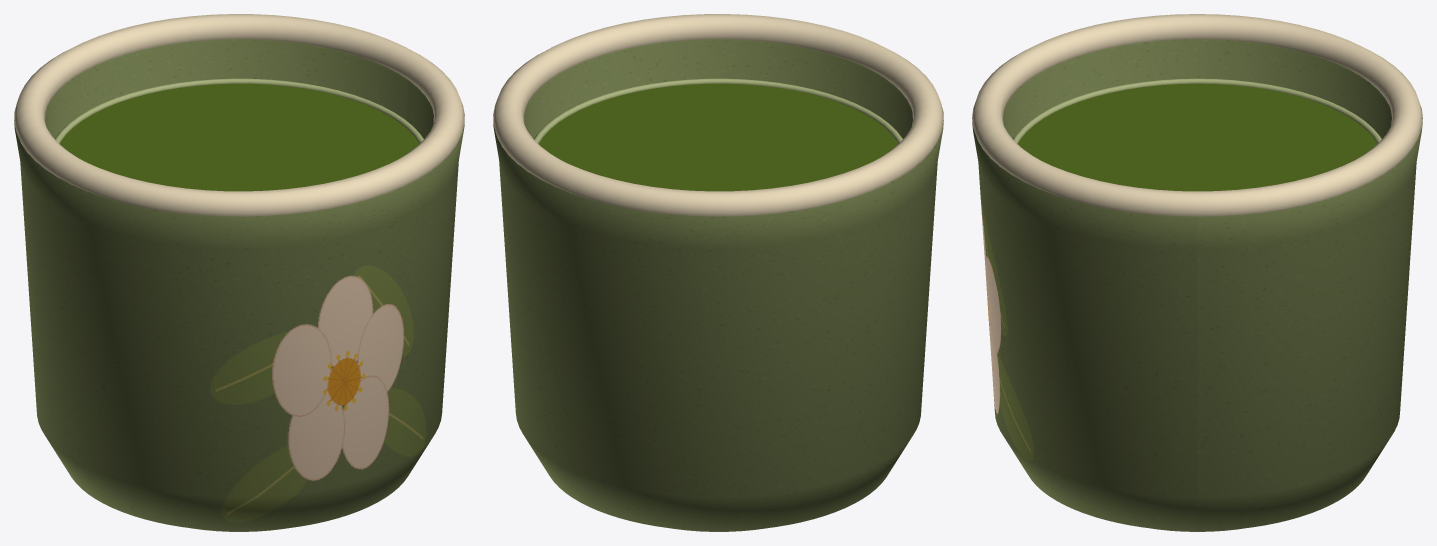
Rendered from tea-cup.glb.
3 renders of one model, left to right at view 1: azimuth 30°, elevation 25°; view 2: azimuth 150°, elevation 25°; view 3: azimuth 270°, elevation 25°, orthographic.
Visible parts, largest first — view 1: Tea cup painted exterior, Green tea surface, Tea cup cream lip, Tea meniscus; view 2: Tea cup painted exterior, Green tea surface, Tea cup cream lip, Tea meniscus; view 3: Tea cup painted exterior, Green tea surface, Tea cup cream lip, Tea meniscus.
Boxes of the visible parts, x1,y1,x2,y2 form: Tea cup painted exterior: (14, 39, 464, 530); Green tea surface: (55, 83, 423, 191); Tea cup cream lip: (14, 14, 464, 216); Tea meniscus: (55, 78, 423, 143); Tea cup painted exterior: (493, 39, 943, 530); Green tea surface: (534, 83, 902, 191); Tea cup cream lip: (493, 14, 943, 216); Tea meniscus: (534, 78, 902, 143); Tea cup painted exterior: (972, 39, 1422, 530); Green tea surface: (1013, 83, 1381, 191); Tea cup cream lip: (972, 14, 1422, 216); Tea meniscus: (1013, 78, 1381, 143).
Size of the model in its own units: 1.6 by 1.45 by 1.6.
4 materials, 1 textured.
